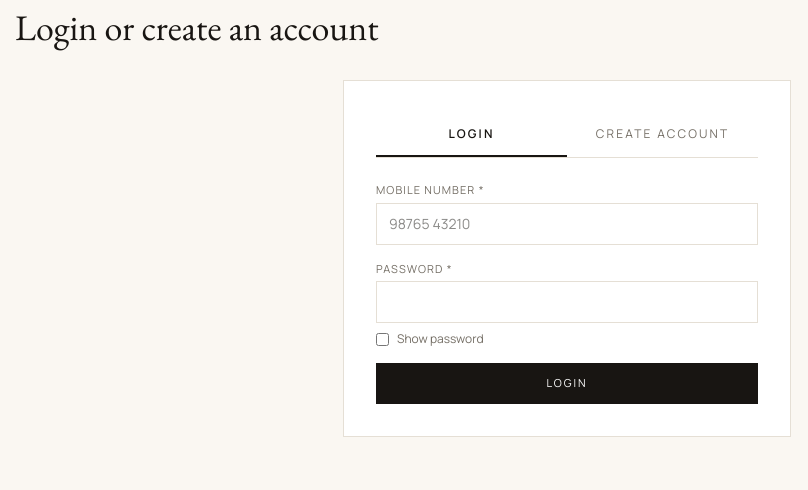
it: AccountView › displays a login error when authentication fails
In the field with placeholder "98765 43210": (567, 224) 376,202 -> 758,244, type "9876543210"
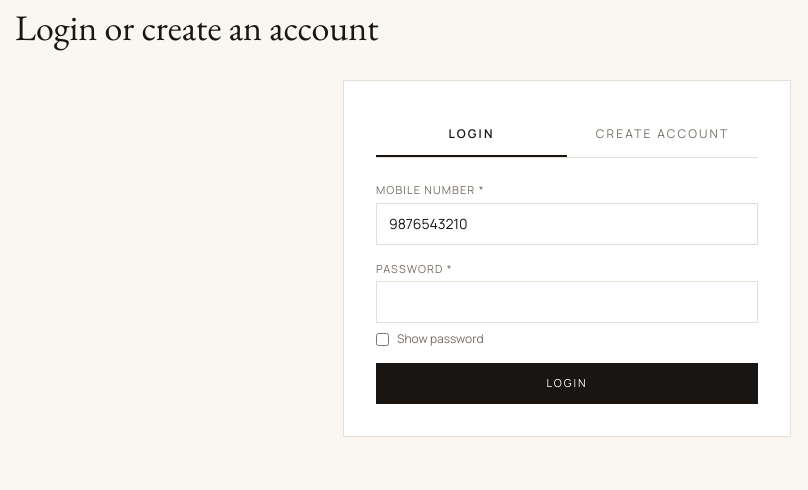
In the password field: (567, 302) 376,281 -> 758,323, type "wrong-password"
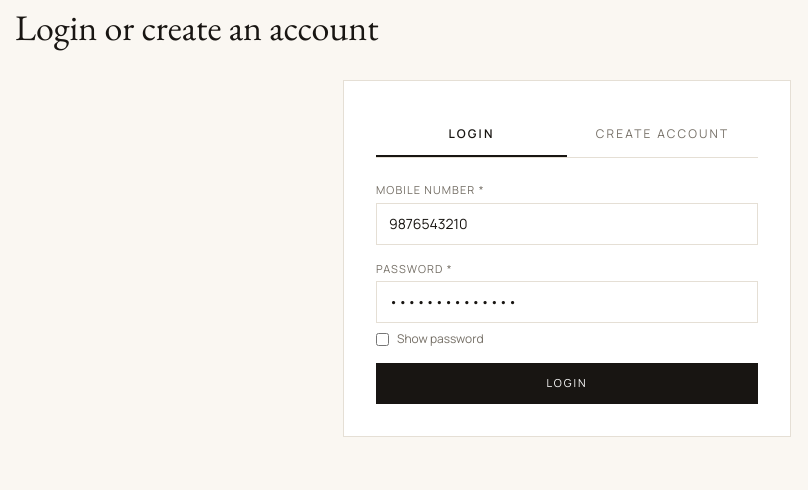
Submit the form with placeholder "98765 43210", box 376,182 -> 758,404
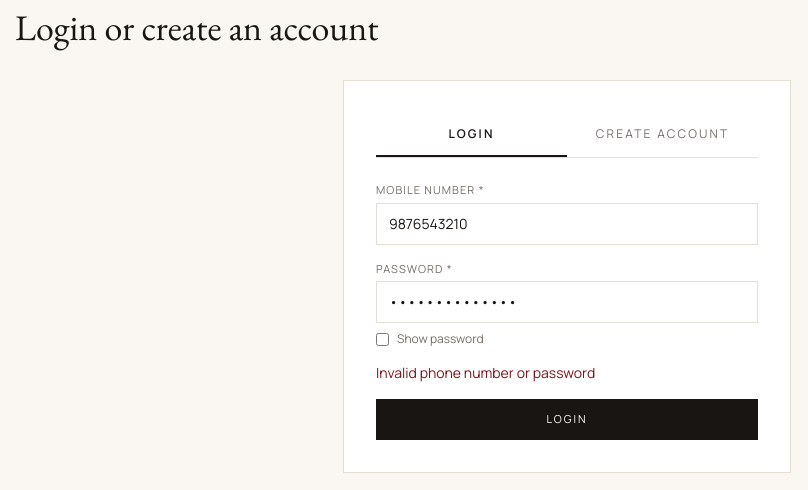
Expected: the text "Invalid phone number or password" is shown, 376,363 -> 595,382
